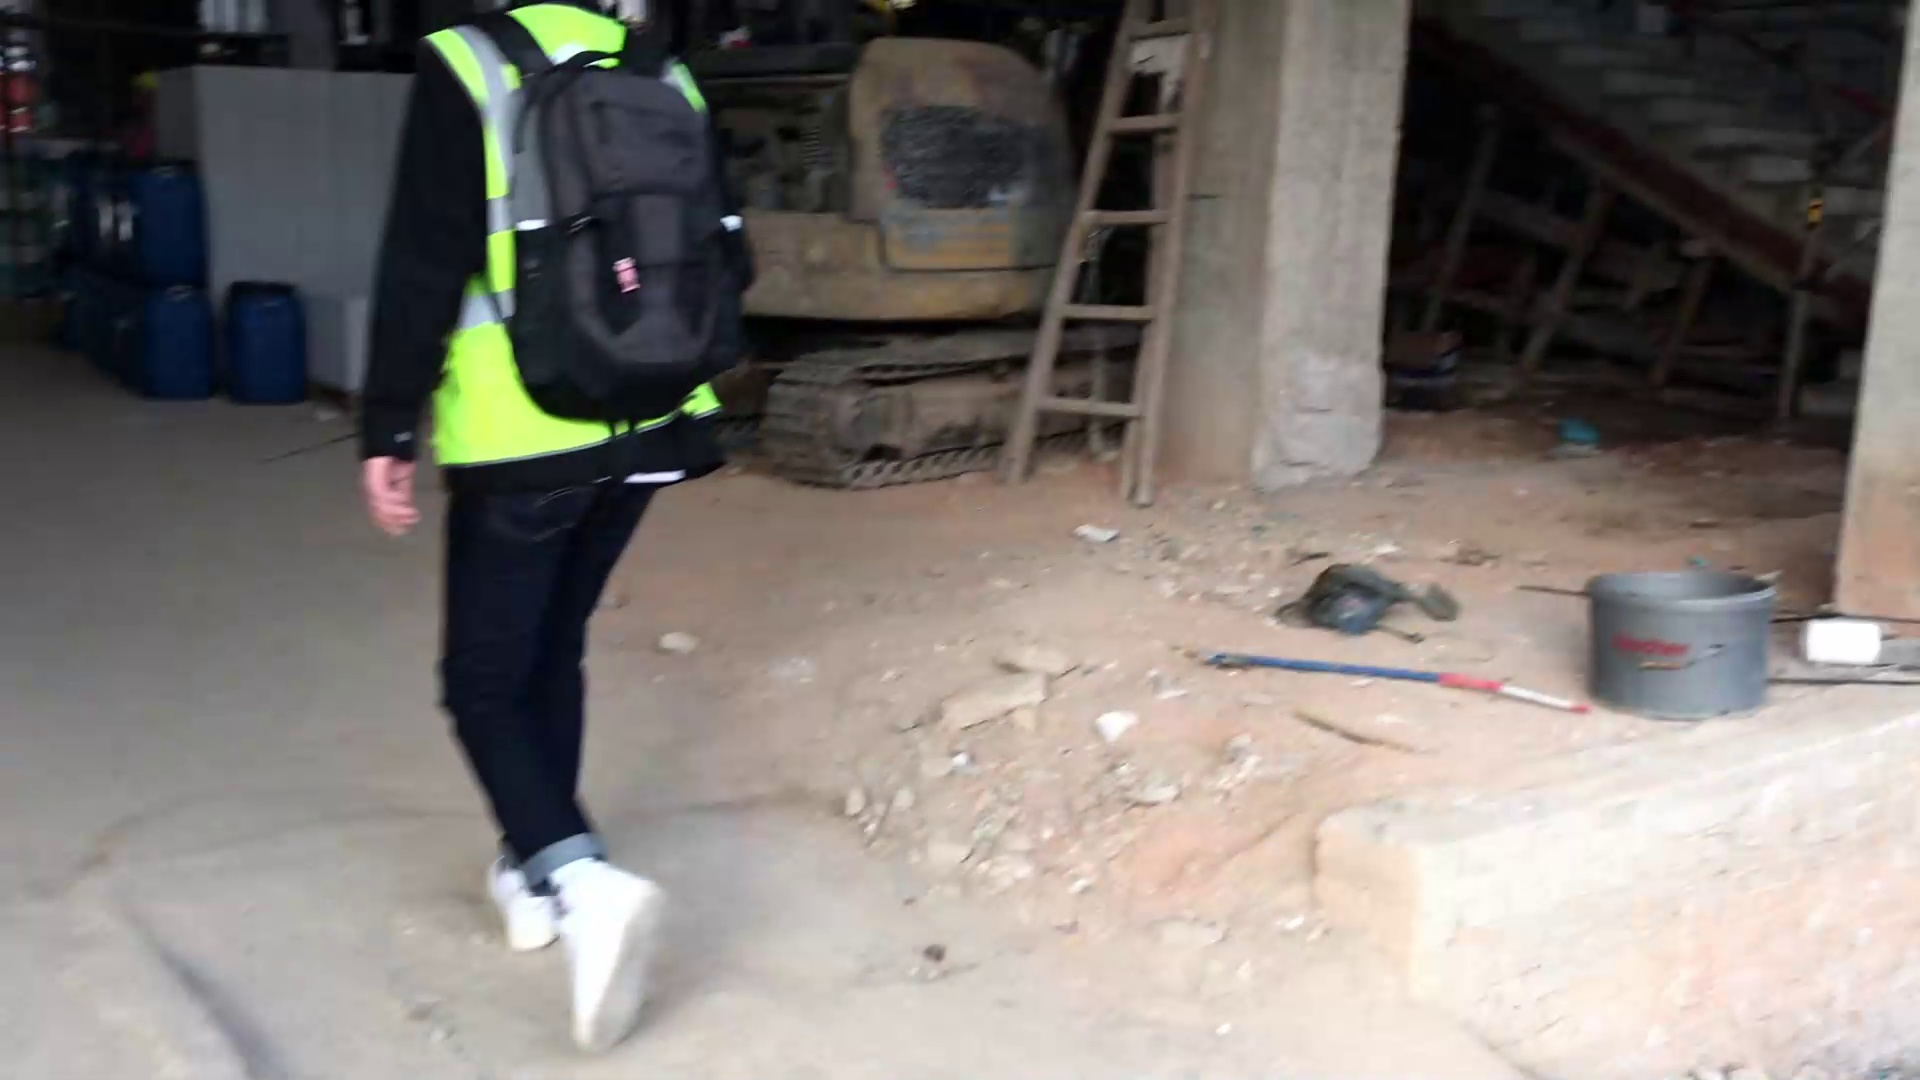person: (301, 2, 823, 1054)
vest: (411, 1, 736, 490)
